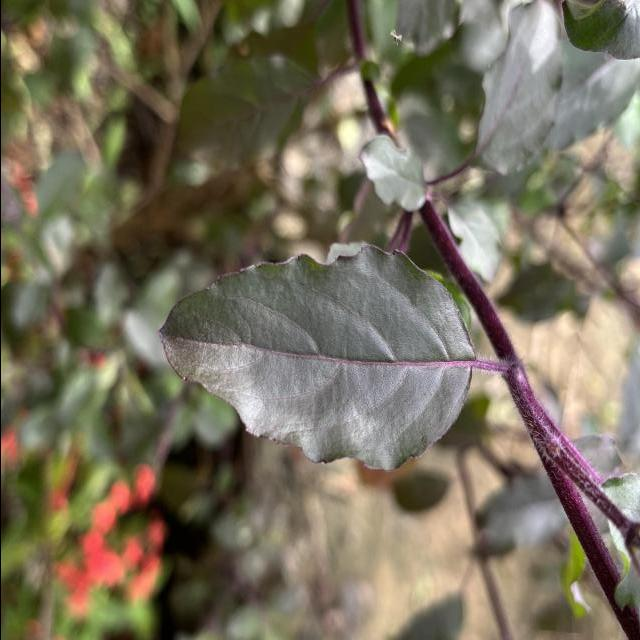Ocimum tenuiflorum: (157, 243, 474, 473)
